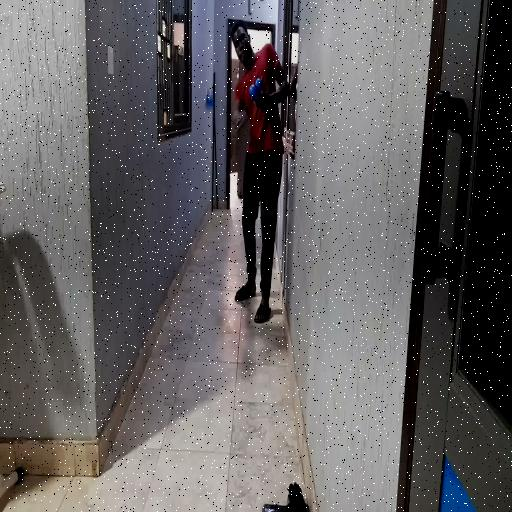plastic-ball: (204, 86, 214, 112)
